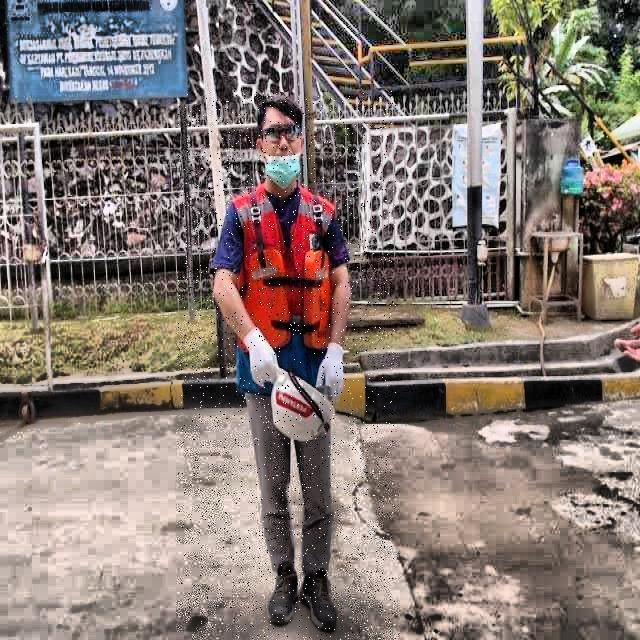safety_helmet: (262, 363, 334, 446)
safety_jacket: (226, 185, 351, 396)
